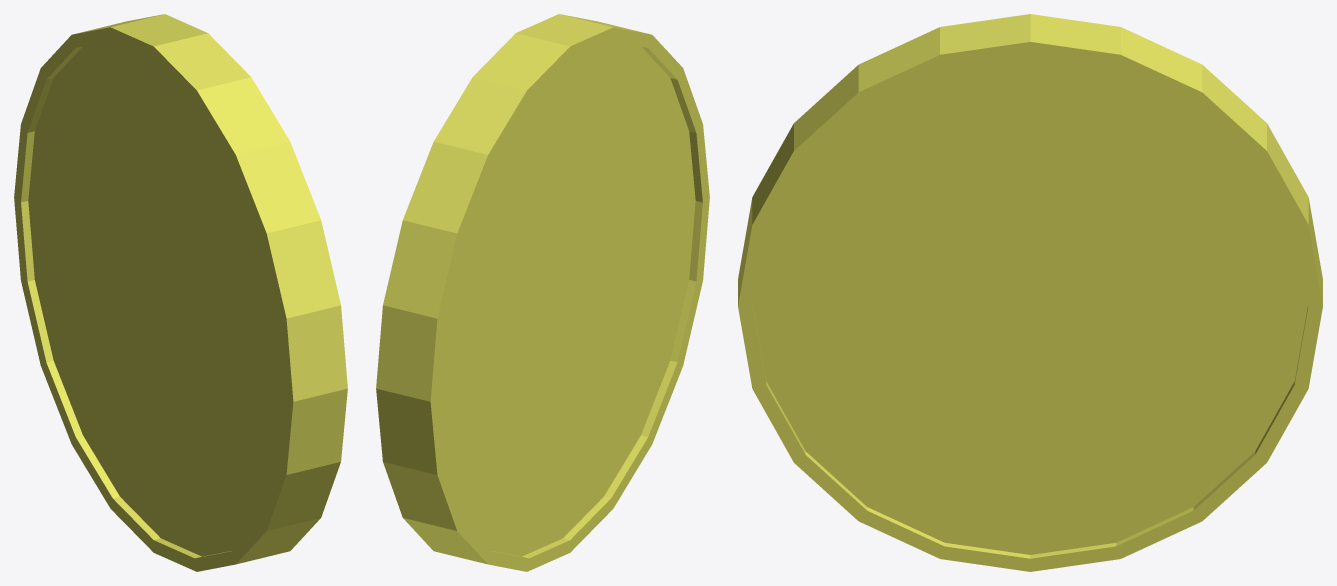
Rendered from Low Poly Coin.fbx.
3 views of the same model, side by side, from view 1: azimuth 30°, elevation 25°; view 2: azimuth 150°, elevation 25°; view 3: azimuth 270°, elevation 25° (orthographic). The views are drawn at different scales.
Visible parts, largest first — view 1: Cylinder; view 2: Cylinder; view 3: Cylinder.
Boxes of the visible parts, x1=… form: Cylinder: x1=14, y1=14, x2=347, y2=571; Cylinder: x1=376, y1=14, x2=709, y2=571; Cylinder: x1=738, y1=14, x2=1322, y2=571.
Size of the model in its own units: 22.54 by 200 by 200.
